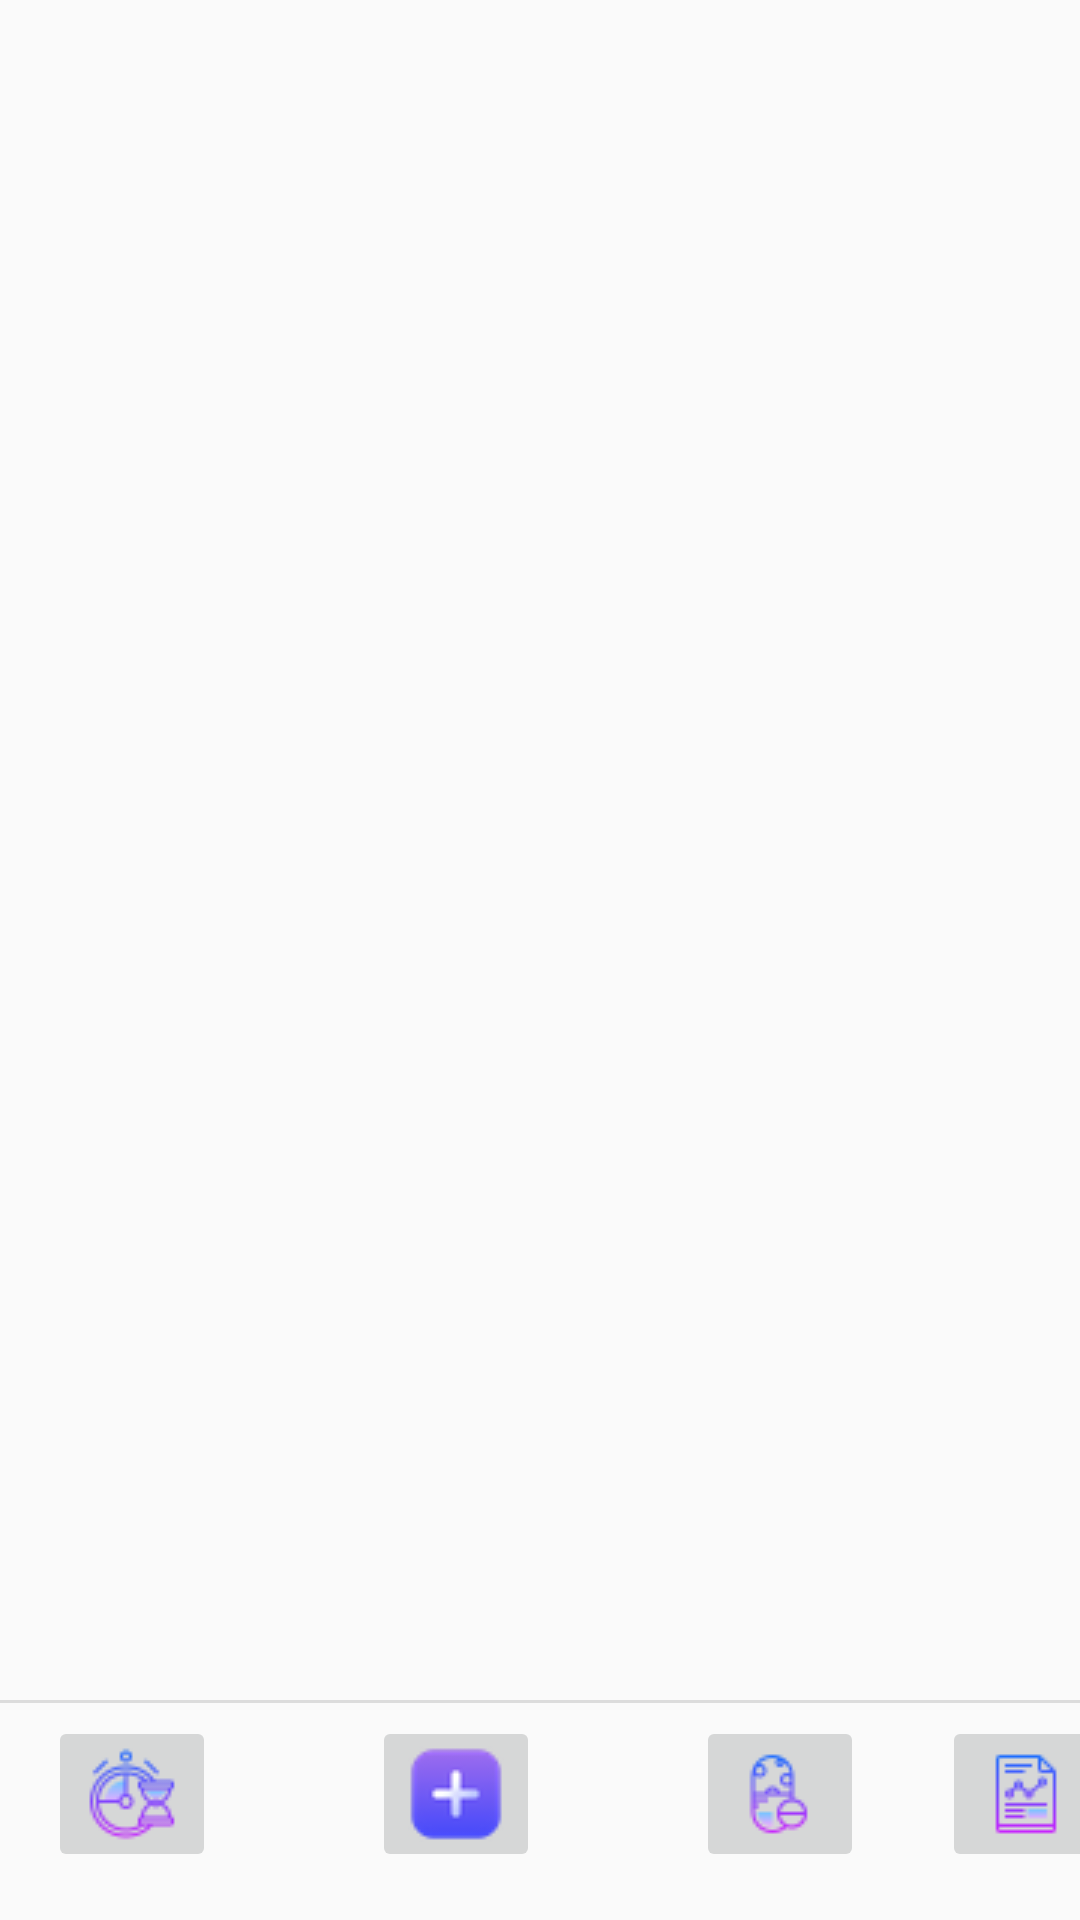

Icon click points for this 1080px x 1920px phone screenshot, format point (x, y):
add: point (456, 1794)
clock: point (132, 1794)
pills: point (780, 1794)
